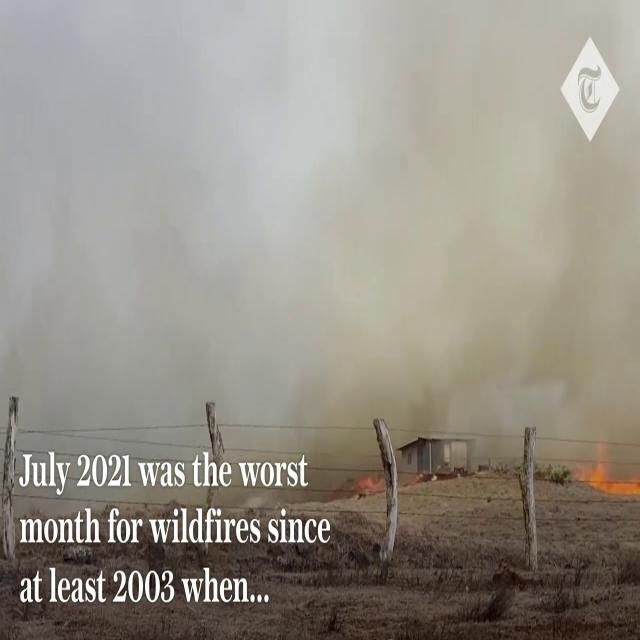Fire: (576, 440, 640, 502)
Smoke: (1, 0, 640, 460)
